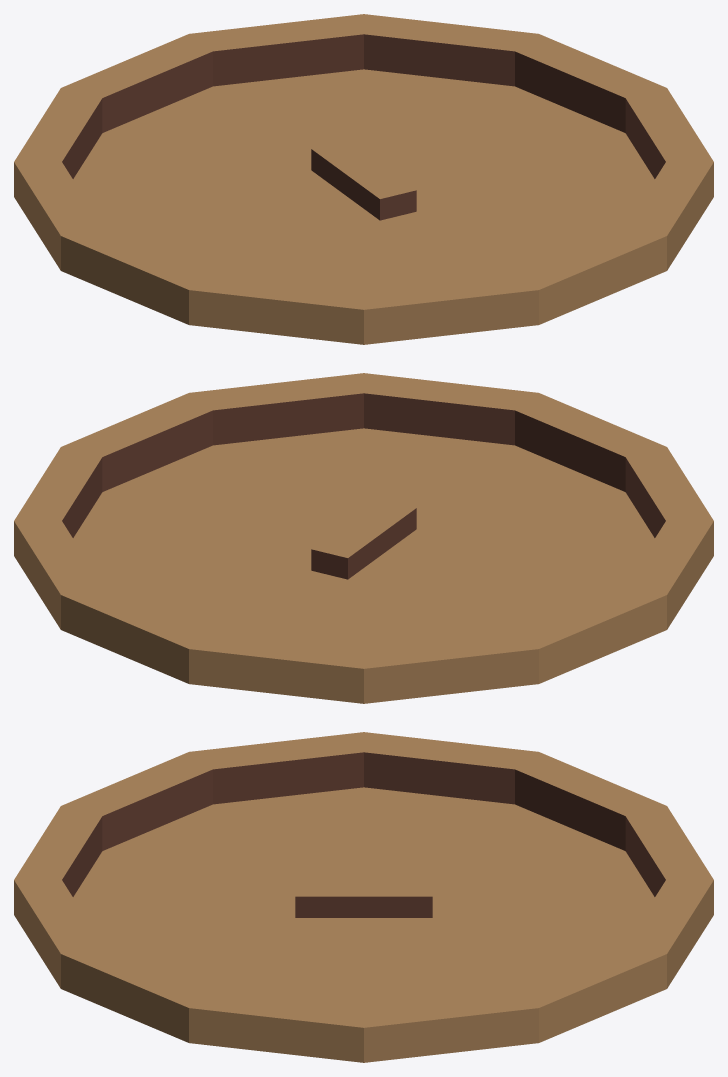
Rendered from barrel_top.fbx.
3 renders of one model, top to bottom at view 1: azimuth 30°, elevation 25°; view 2: azimuth 150°, elevation 25°; view 3: azimuth 270°, elevation 25°, orthographic.
Parts seen in each view (by area): view 1: barrel_top; view 2: barrel_top; view 3: barrel_top.
Part boxes in pixels (box(x1,y1,x2,y2)): barrel_top: box(14, 14, 713, 344); barrel_top: box(14, 373, 713, 703); barrel_top: box(14, 732, 713, 1062).
Size of the model in its own units: 305 by 16.83 by 305.
